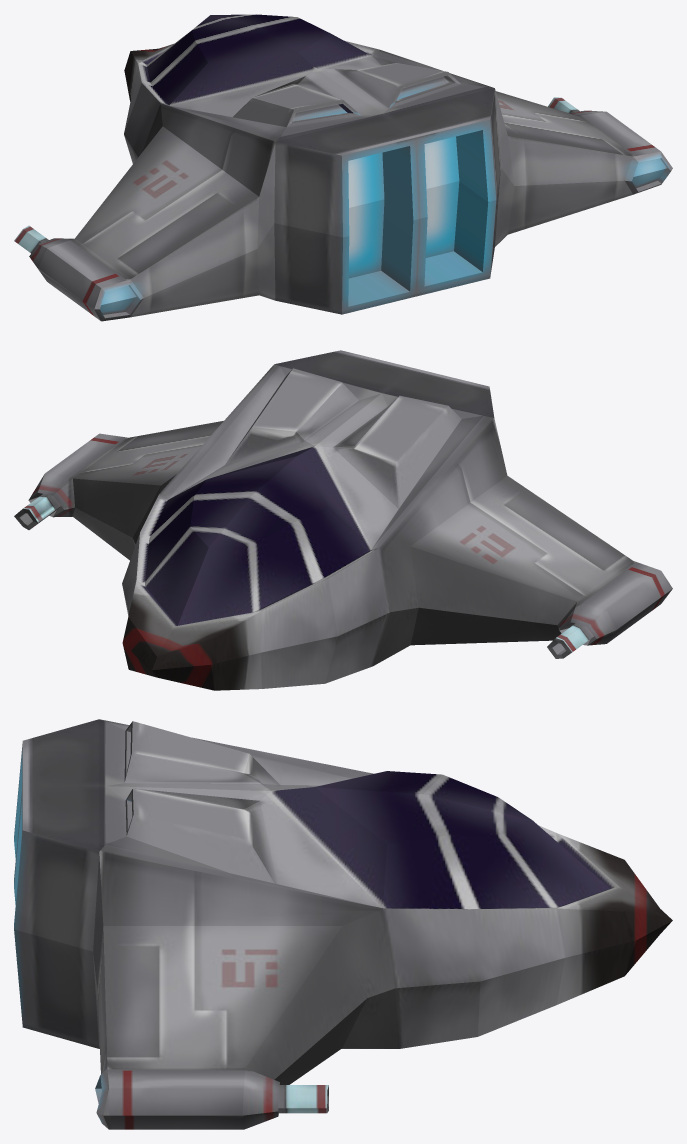
The model's file is nave_espacial.glb.
3 renders of one model, top to bottom at view 1: azimuth 30°, elevation 25°; view 2: azimuth 150°, elevation 25°; view 3: azimuth 270°, elevation 25°, orthographic. The views are drawn at different scales.
Visible parts, largest first — view 1: Cube; view 2: Cube; view 3: Cube.
Part boxes in pixels (x1,y1,x2,y2): Cube: (14,14,672,321); Cube: (14,350,672,690); Cube: (14,719,672,1129).
Size of the model in its own units: 9.25 by 2.64 by 7.36.
1 material, 1 textured.
